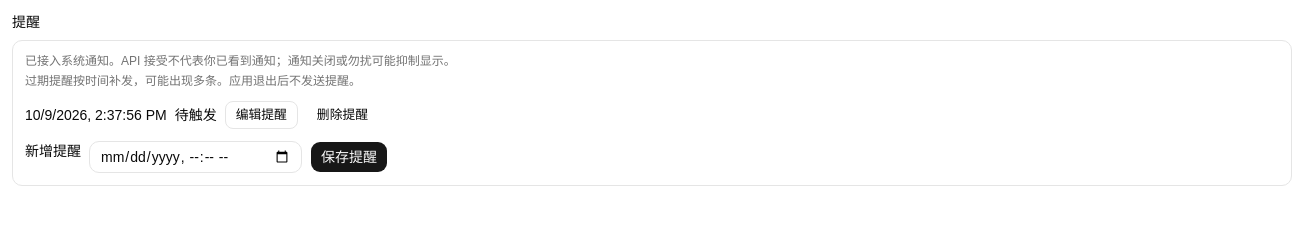
Test: TaskReminders › shows API accepted notice, validates dates and preserves failed edit draft
Check: the text "已接入系统通知。API 接受不代表你已看到通知；通知关闭或勿扰可能抑制显示。" is shown, box [25, 54, 456, 68]
Click the button "编辑提醒".
click(261, 115)  # box [225, 101, 298, 129]
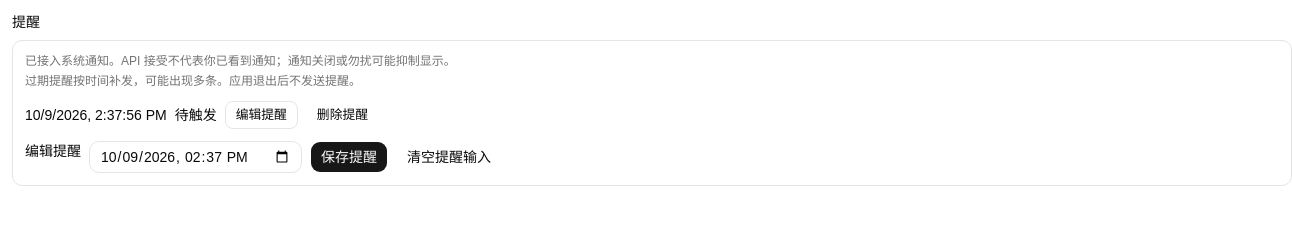
Check: the field labelled "编辑提醒" is not empty, box [89, 141, 302, 173]
Click the button "保存提醒".
click(349, 157)  # box [310, 141, 388, 173]
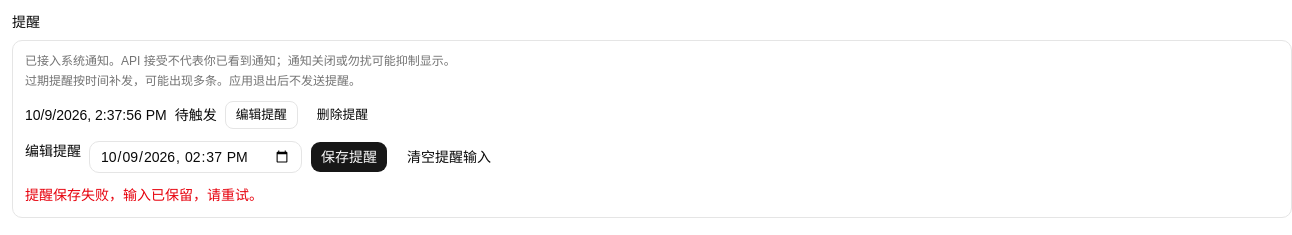
Check: the field labelled "编辑提醒" is not empty
Check: the text "提醒保存失败，输入已保留，请重试。" is shown, box [25, 187, 263, 203]
Replace the text in the field labelled "编辑提醒" with "2000-01-01T00:00" at coordinates (196, 157), box [89, 141, 302, 173]
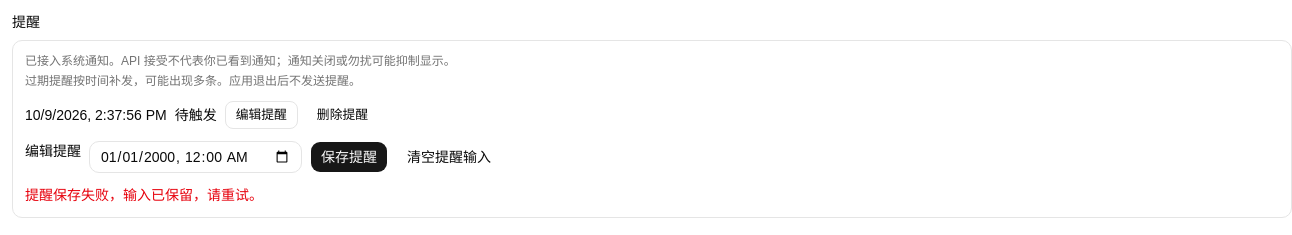
Click the button "保存提醒".
click(349, 157)  # box [310, 141, 388, 173]
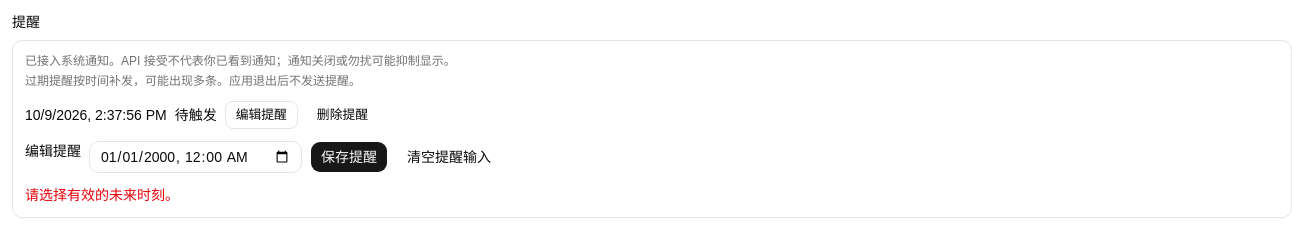
Check: the text "请选择有效的未来时刻。" is shown, box [25, 187, 179, 203]
